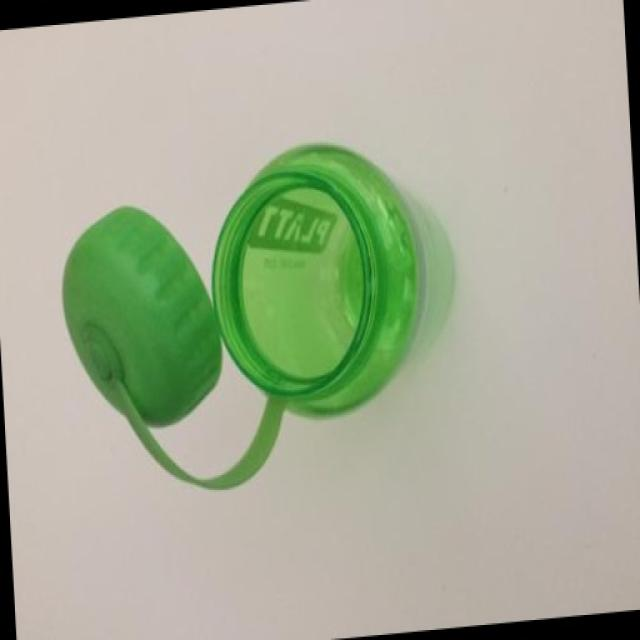plastico: (49, 85, 468, 542)
